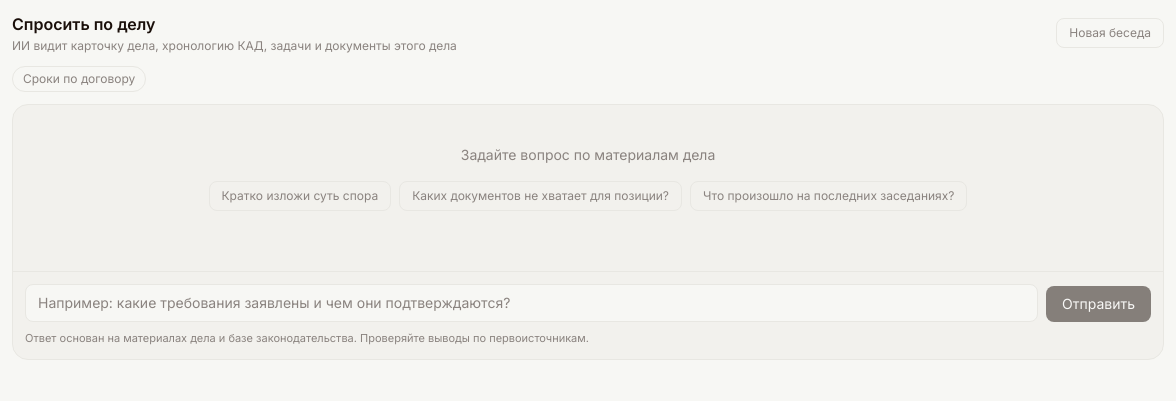
it: CaseChatSection › opens the history of a selected case conversation
Click the button "Сроки по договору". click: (79, 79)
box: [12,66,146,92]
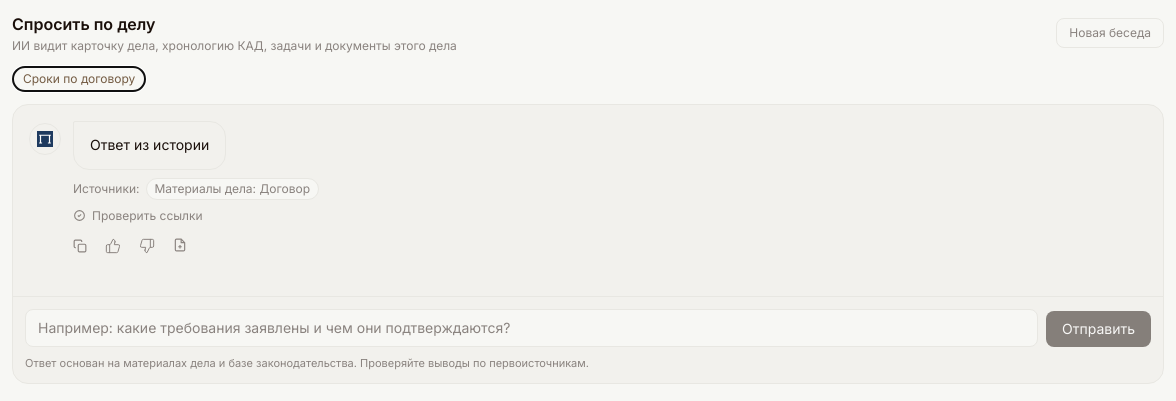
Expected: the text "Ответ из истории" is shown, [90,134,209,157]
